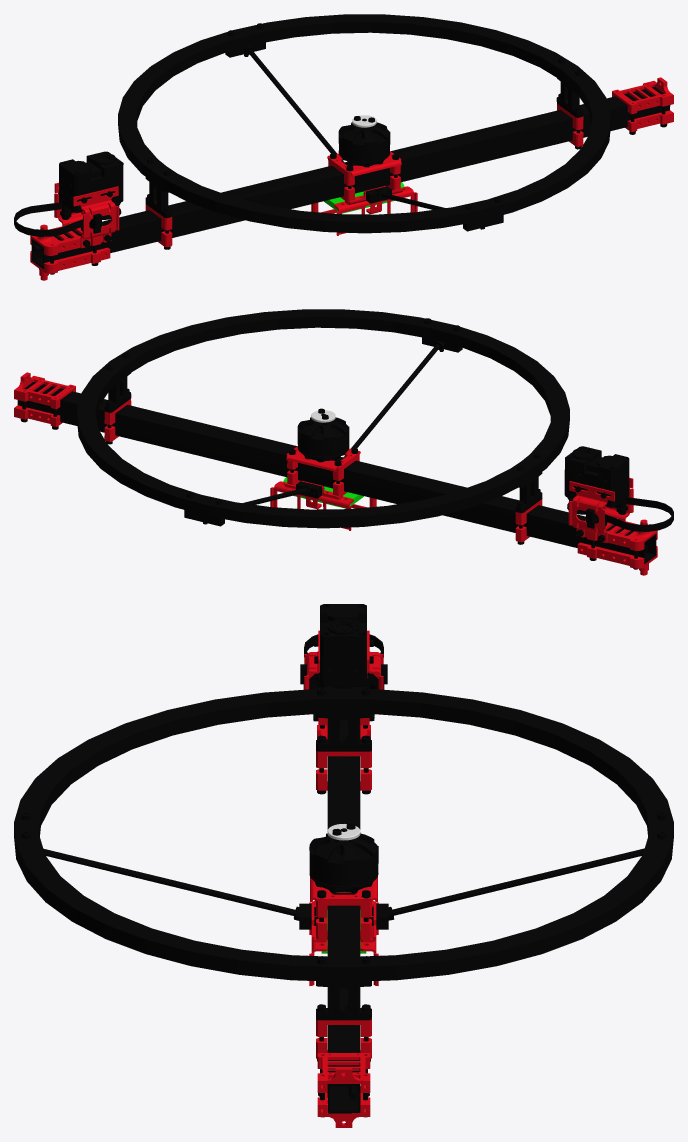
3 renders of one model, top to bottom at view 1: azimuth 30°, elevation 25°; view 2: azimuth 150°, elevation 25°; view 3: azimuth 270°, elevation 25°, orthographic. The views are drawn at different scales.
Visible parts, largest first — view 1: link4_black_part, link4_red_part; view 2: link4_black_part, link4_red_part; view 3: link4_black_part, link4_red_part.
Boxes of the visible parts, <box> form: link4_black_part: <box>14,14,670,274</box>; link4_red_part: <box>30,77,673,280</box>; link4_black_part: <box>17,309,673,569</box>; link4_red_part: <box>14,372,657,575</box>; link4_black_part: <box>14,604,673,1117</box>; link4_red_part: <box>304,630,383,1127</box>.
Bounding box in the file's own units: 0.6063 × 0.3997 × 0.1098.
